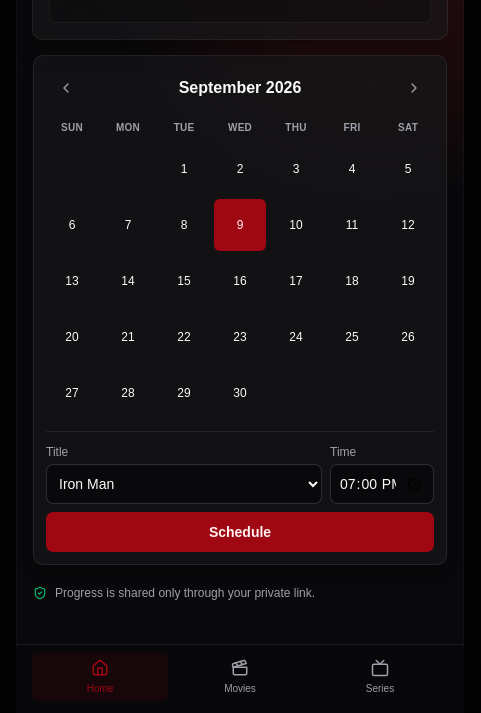
Test case: save success feedback › keeps the scheduling toast but skips the burst under reduced motion
This screenshot has width=481, height=713.
(page scrolled)
Click the button "Schedule" at (240, 532), box [46,512,434,552]
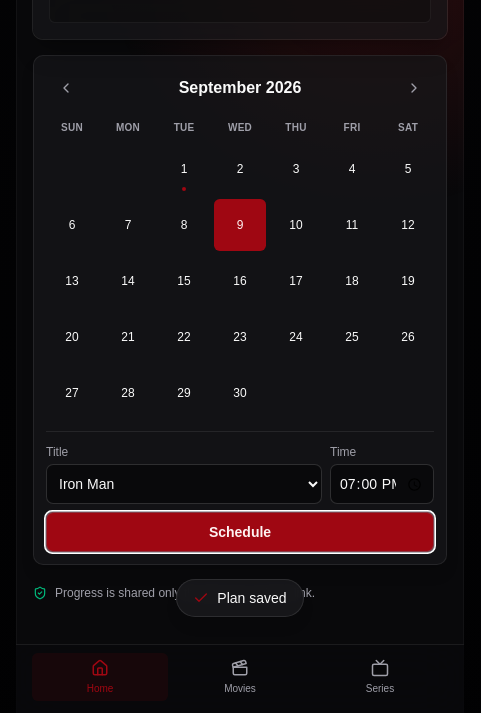
Now the message reads "Plan saved", box [217,590,287,606]
